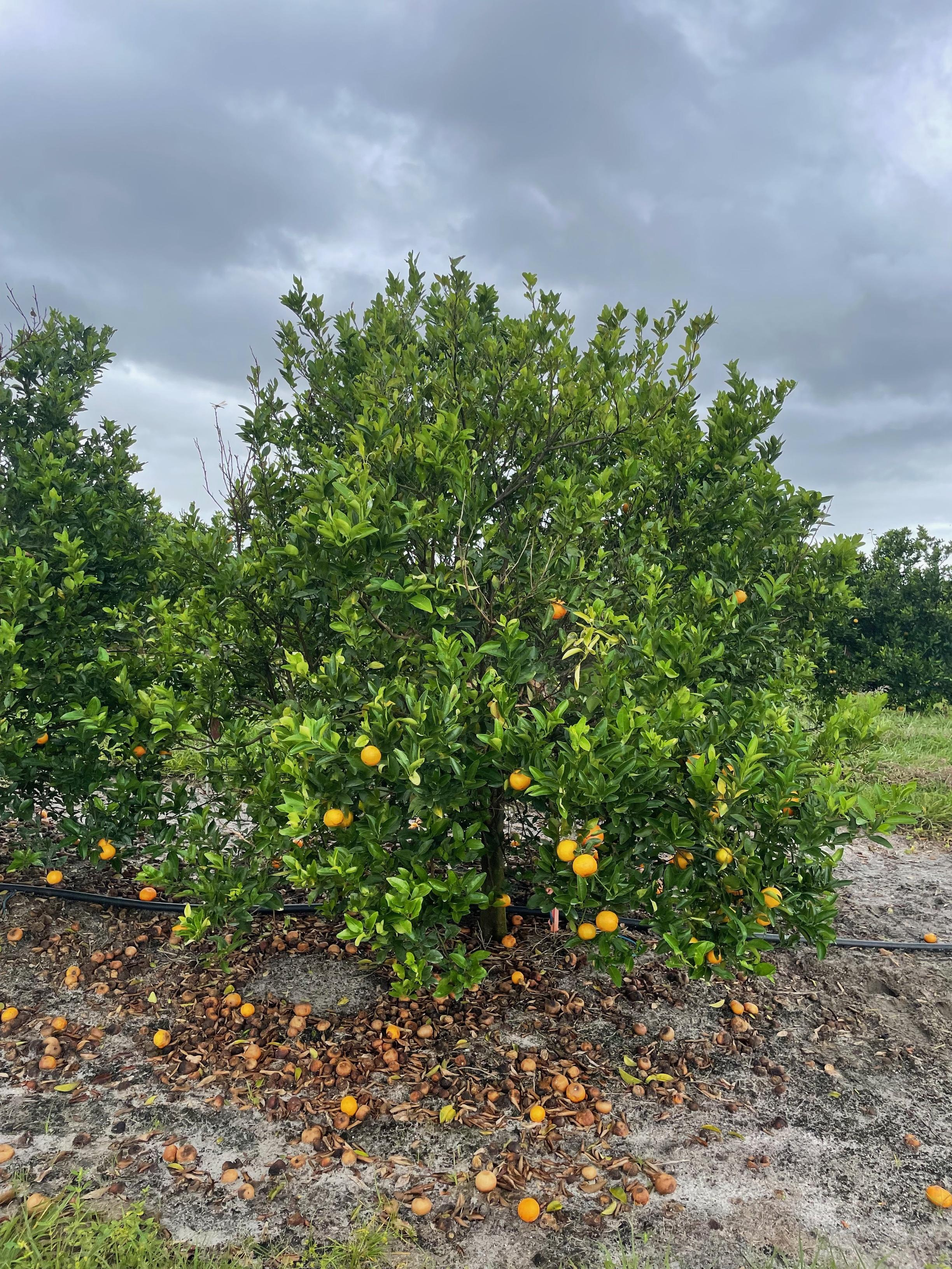fruit_on_ground: (321, 804, 354, 831), (576, 823, 604, 850), (572, 852, 599, 879), (775, 793, 802, 818), (758, 884, 784, 909), (358, 742, 384, 767), (507, 767, 533, 792), (555, 838, 581, 863), (544, 596, 569, 621), (594, 909, 620, 933), (94, 837, 118, 862), (671, 848, 696, 871), (684, 752, 708, 773), (723, 876, 746, 897), (703, 945, 725, 966), (714, 845, 735, 866), (576, 921, 597, 942), (712, 905, 735, 924), (753, 909, 774, 928), (719, 762, 740, 780), (493, 891, 513, 909), (729, 587, 749, 605), (268, 854, 287, 872), (45, 868, 64, 886), (130, 741, 149, 759), (32, 728, 51, 746), (852, 617, 859, 624), (897, 705, 904, 712), (828, 669, 834, 675), (832, 669, 838, 675)
fruit_on_tree: (24, 1191, 53, 1218), (473, 1168, 499, 1194), (516, 1196, 541, 1223), (926, 1183, 951, 1208), (653, 1171, 678, 1195), (301, 1124, 326, 1145), (151, 1026, 173, 1049), (628, 1183, 650, 1206), (410, 1194, 433, 1216), (176, 1141, 198, 1163), (565, 1082, 587, 1103), (38, 1035, 61, 1055), (338, 1094, 359, 1115), (177, 1057, 201, 1075), (137, 884, 159, 903), (527, 1103, 547, 1123), (63, 963, 84, 982), (219, 1166, 240, 1185), (266, 1157, 288, 1175), (160, 1140, 178, 1162), (0, 1140, 17, 1163), (285, 1094, 305, 1113), (237, 1182, 257, 1201), (330, 1112, 351, 1130), (334, 1058, 355, 1076), (37, 1055, 59, 1072), (0, 1182, 16, 1205), (5, 925, 24, 944), (575, 1108, 595, 1126), (293, 1000, 313, 1018), (551, 1073, 569, 1092), (383, 1021, 401, 1040), (2, 1004, 20, 1023), (593, 1097, 613, 1114), (730, 1014, 750, 1031), (223, 991, 243, 1008), (658, 1024, 676, 1042), (243, 1043, 262, 1060), (416, 1022, 435, 1039), (238, 1001, 257, 1018), (610, 1120, 630, 1136), (383, 1048, 400, 1066), (635, 1054, 653, 1071), (727, 997, 745, 1014), (519, 1056, 537, 1073), (554, 986, 573, 1002), (284, 1022, 303, 1038), (51, 1014, 68, 1031), (744, 998, 761, 1015), (501, 932, 518, 949), (306, 1059, 324, 1075), (274, 1042, 292, 1058), (568, 998, 586, 1014), (355, 1104, 373, 1120), (581, 1164, 599, 1180), (92, 981, 111, 996), (563, 951, 579, 968), (713, 1029, 730, 1045), (543, 998, 560, 1014), (204, 1001, 221, 1017), (632, 1020, 648, 1037), (510, 968, 526, 985), (287, 1018, 305, 1033), (599, 995, 617, 1010), (585, 1083, 601, 1099), (270, 935, 286, 951), (315, 1017, 333, 1031), (405, 819, 422, 833), (566, 1066, 583, 1080), (922, 931, 939, 945), (772, 1081, 788, 1095), (35, 806, 51, 820), (528, 969, 542, 985), (632, 856, 648, 870), (509, 912, 525, 926), (284, 930, 300, 944), (168, 933, 183, 947), (327, 942, 342, 956), (344, 941, 359, 955), (90, 948, 105, 962), (107, 956, 123, 969), (370, 1017, 384, 1031), (508, 836, 523, 849), (123, 944, 138, 957), (135, 931, 149, 943), (297, 940, 310, 952), (409, 1001, 421, 1013)
